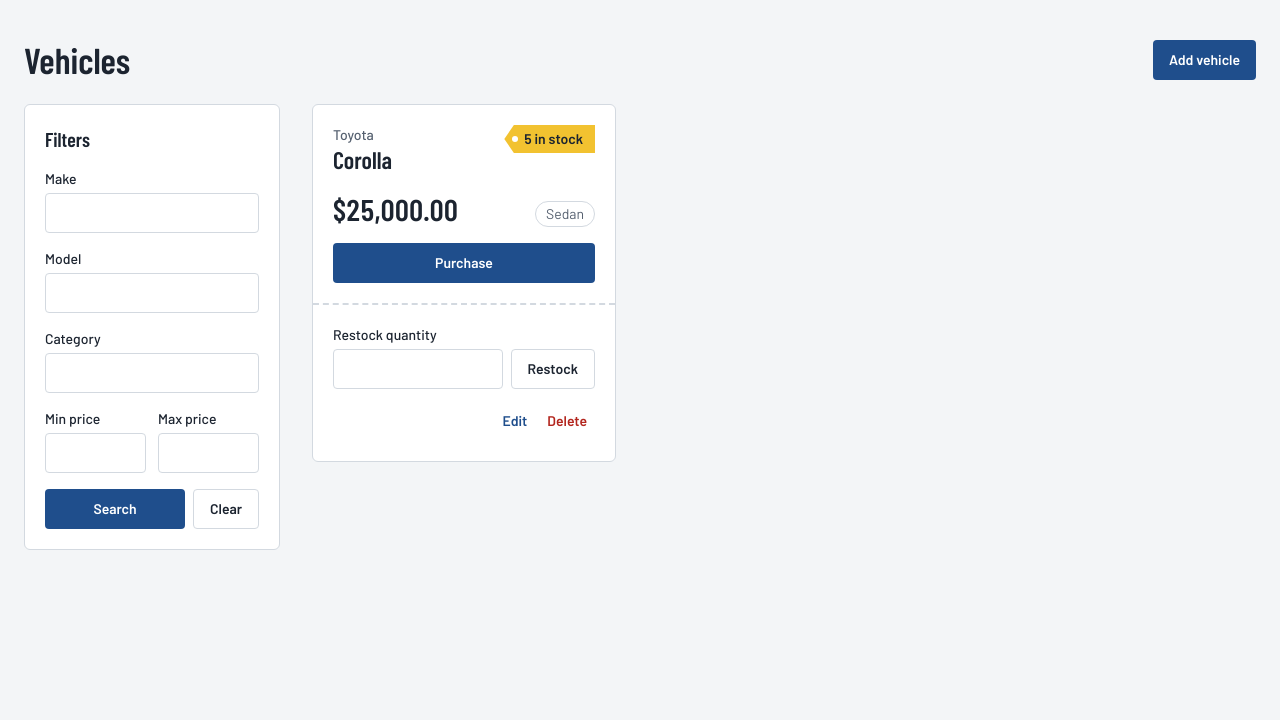
Test: Edit opens a form pre-filled with the vehicle details
expect the heading "Toyota Corolla" is shown: met, box [333,125,392,175]
Click the button "Edit" at (515, 421), box [494,401,535,441]
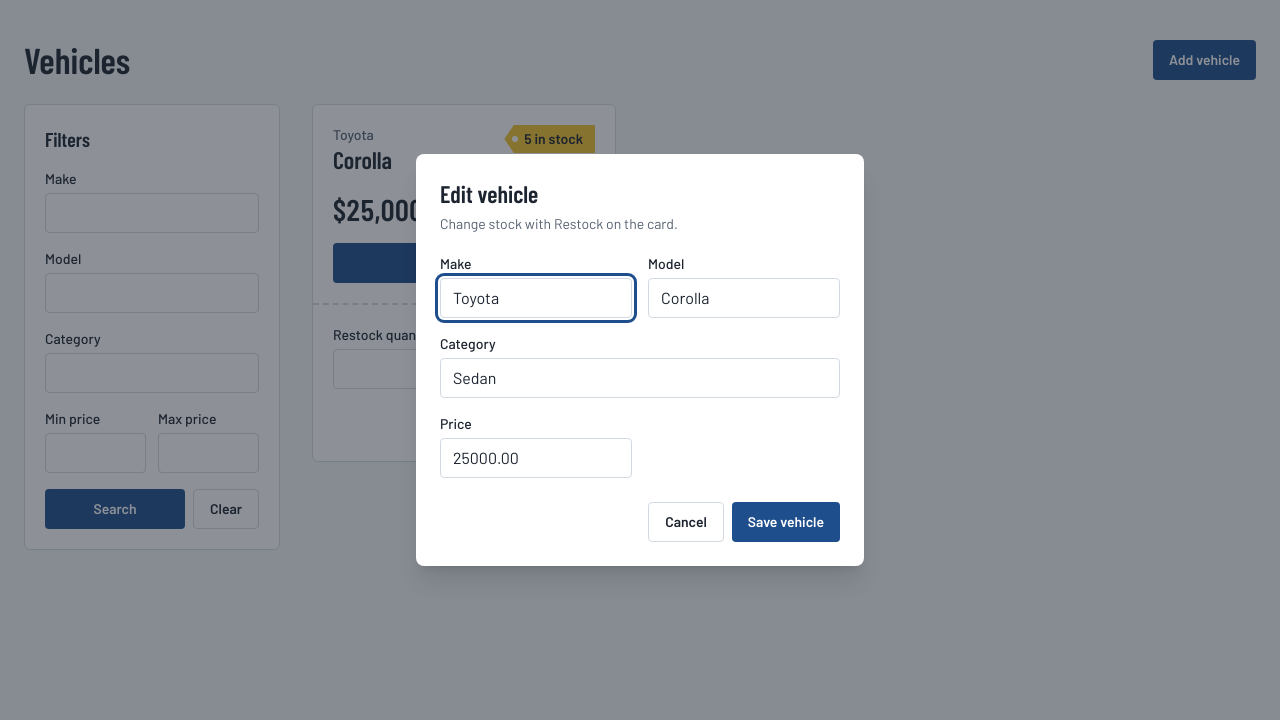
expect the field labelled "Make" holds "Toyota": met, box [440,278,632,318]
expect the field labelled "Model" holds "Corolla": met, box [648,278,840,318]
expect the field labelled "Category" holds "Sedan": met, box [440,358,840,398]
